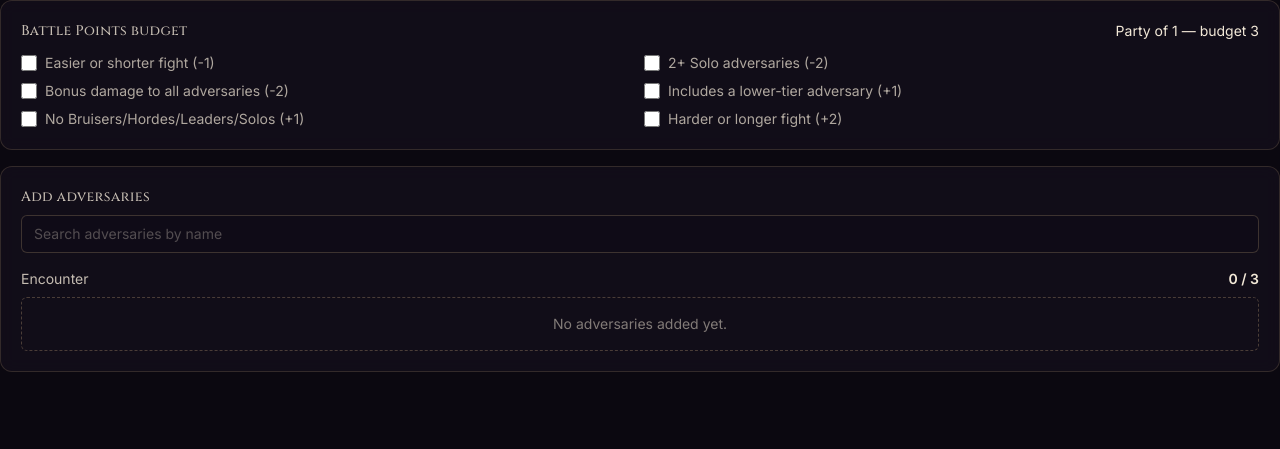
Scenario: EncounterBuilderPanel › shows an over-budget indicator when spent exceeds the budget
Check: the text "Party of 1 — budget 3" is shown, box x1=1116 y1=21 x2=1259 y2=41
Type "Acid" into the field with placeholder "Search adversaries by name" at (640, 234), box x1=21 y1=215 x2=1259 y2=253
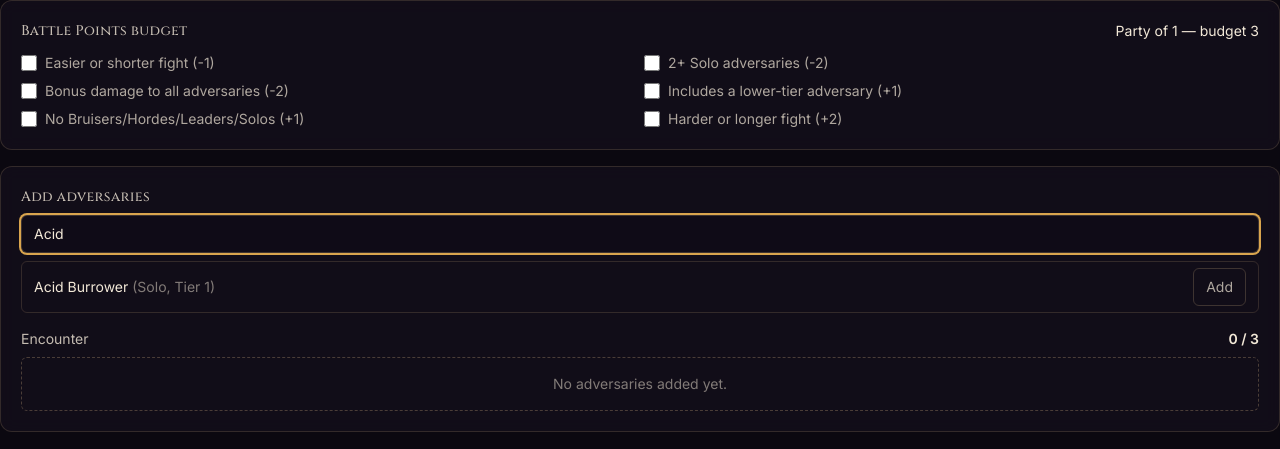
Check: the text "Acid Burrower (Solo, Tier 1)" is shown, box x1=34 y1=277 x2=215 y2=297
Click the button "Add" at (1220, 287), box x1=1193 y1=268 x2=1246 y2=306
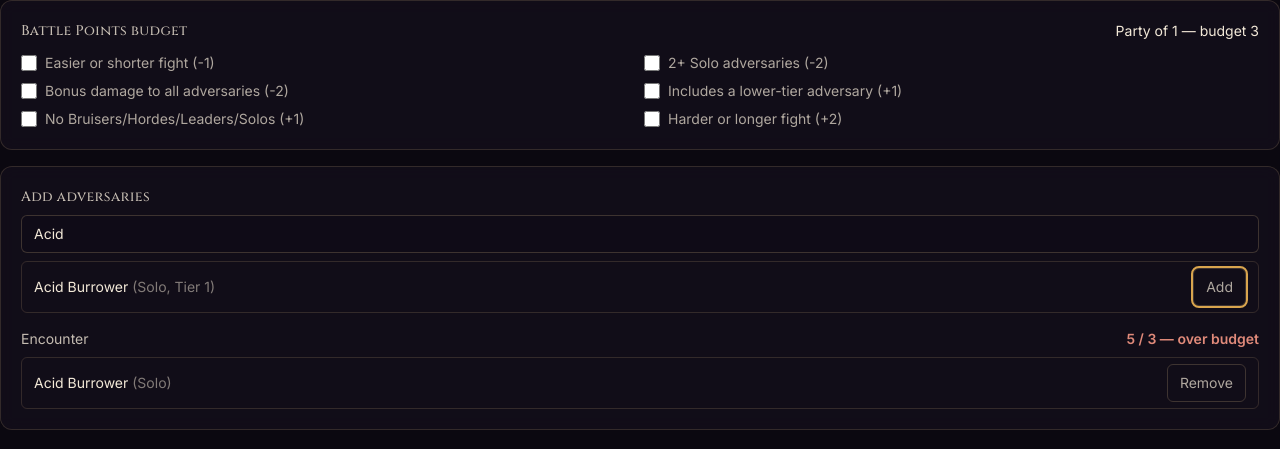
Check: the text "5 / 3 — over budget" is shown, box x1=1126 y1=329 x2=1259 y2=349
